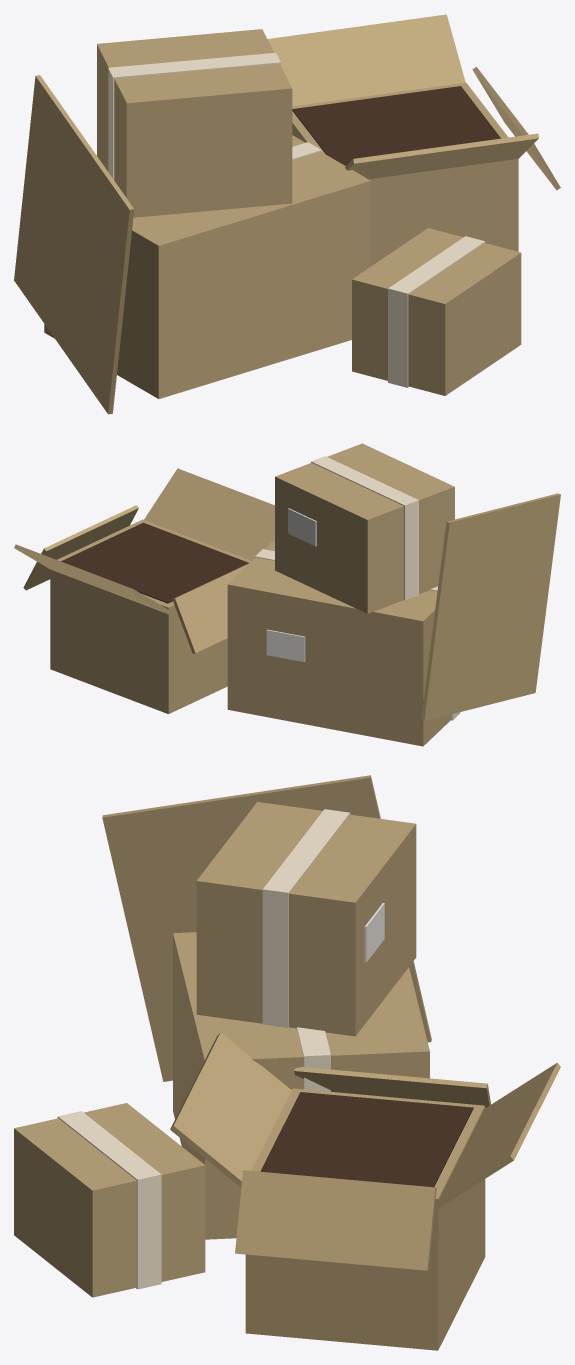
Rendered from cardboard_boxes.glb.
The picture shows the model from 3 angles, top to bottom: view 1: azimuth 30°, elevation 25°; view 2: azimuth 150°, elevation 25°; view 3: azimuth 270°, elevation 25°; orthographic projection. The views are drawn at different scales.
Parts seen in each view (by area): view 1: cardboard_boxes; view 2: cardboard_boxes; view 3: cardboard_boxes.
Boxes of the visible parts, x1,y1,x2,y2 form: cardboard_boxes: [14, 14, 560, 414]; cardboard_boxes: [14, 443, 560, 746]; cardboard_boxes: [14, 775, 560, 1350].
Size of the model in its own units: 1.42 by 0.7087 by 1.11.
